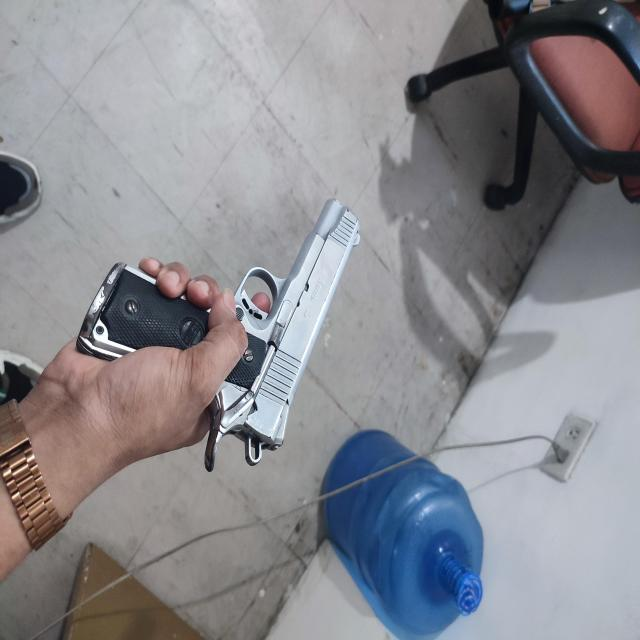pistol: (75, 153, 361, 471)
